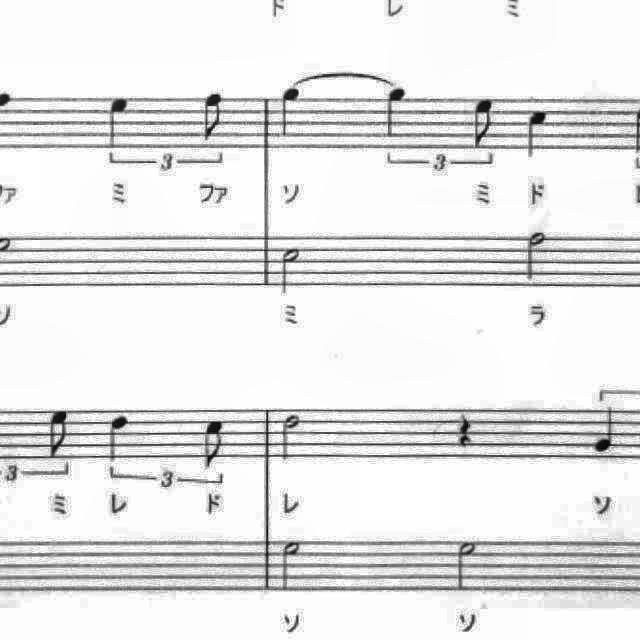Eighth-note: (467, 92, 505, 154), (195, 86, 233, 146), (40, 402, 76, 462), (198, 414, 232, 474)
Half-note: (448, 534, 484, 598), (519, 225, 553, 287), (275, 533, 309, 595), (274, 242, 310, 300), (274, 408, 308, 468)
Quarter-note: (100, 90, 136, 154), (518, 102, 554, 166), (378, 83, 414, 143), (272, 84, 308, 144), (588, 402, 624, 458), (101, 409, 135, 467)
Quarter-rest: (452, 404, 483, 452)
